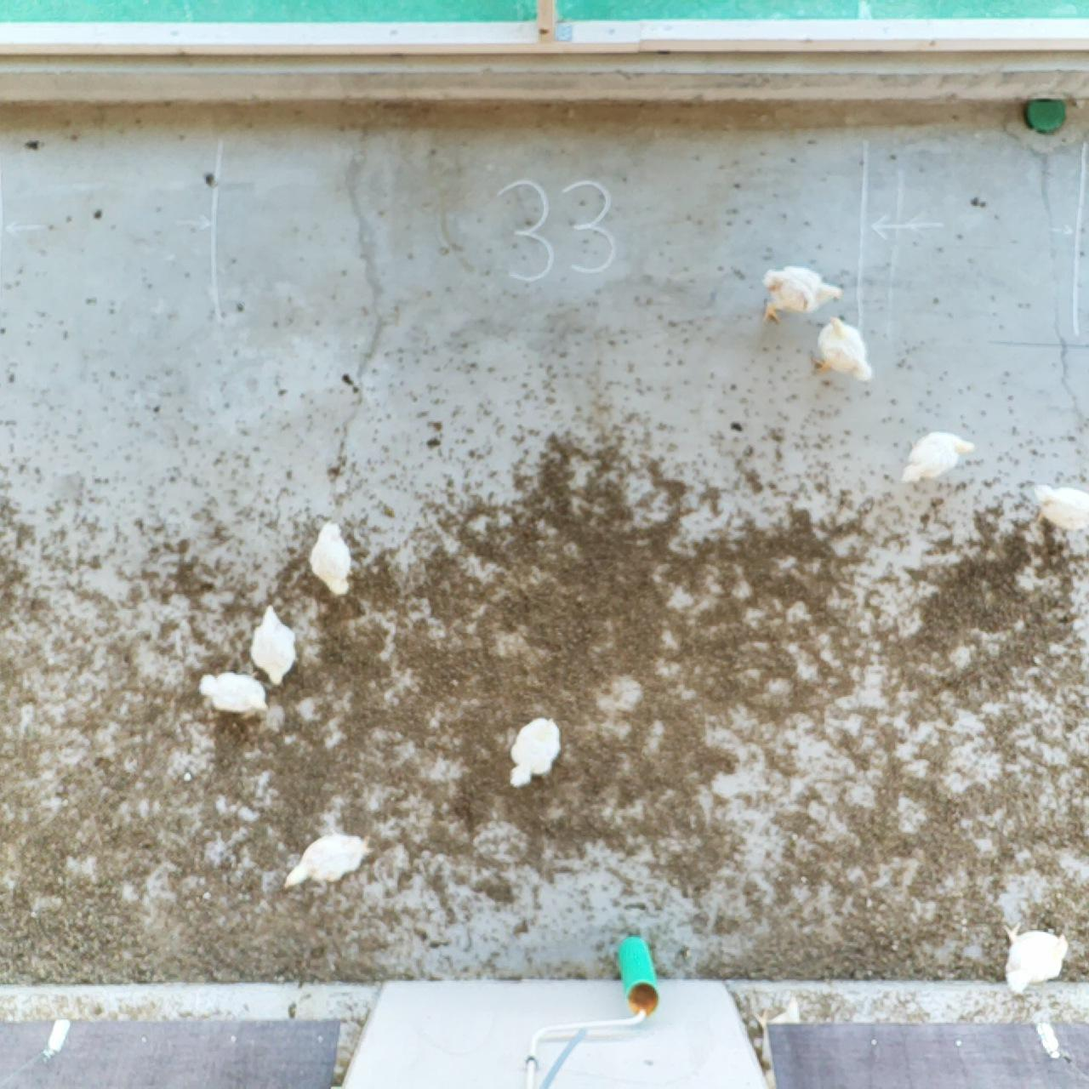chicken: (284, 824, 376, 889), (999, 917, 1069, 1001), (758, 262, 845, 324), (902, 425, 979, 488), (249, 600, 302, 686), (507, 712, 563, 790), (815, 316, 875, 386), (309, 519, 355, 600), (198, 668, 272, 715), (1030, 483, 1089, 532)
